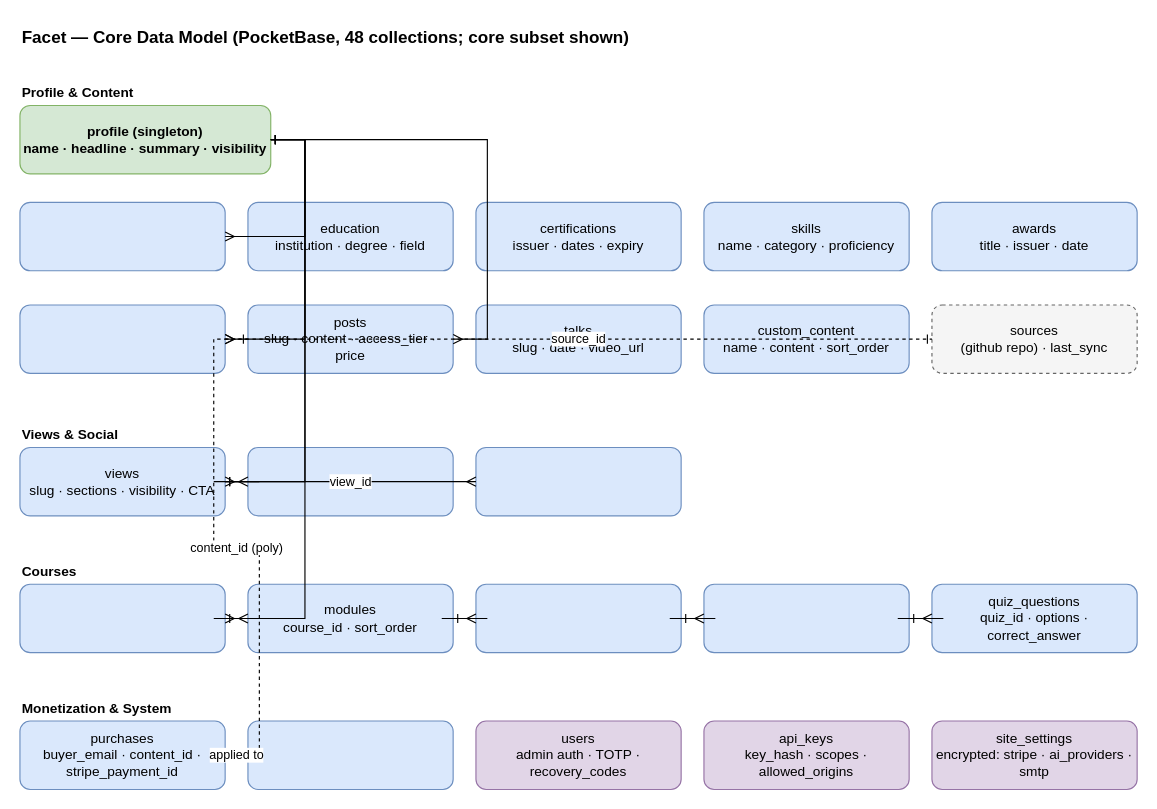
Image size: 1157x809. Some labels were removed from this diagram. The centre of each missing label's shape, as x and y in pixels:
coupons code · discount · applicable_ids: the point at 350,754
courses slug · price · access_tier: the point at 122,618
experience company · title · dates · bullets: the point at 122,236
lessons module_id · video · drip_days: the point at 578,618
projects slug · tech_stack · source_id · field_locks: the point at 122,338
quizzes lesson_id · passing_score: the point at 806,618
share_tokens token_hash · expires · max_uses: the point at 350,481
testimonials author · text · approved · view_id: the point at 578,481
